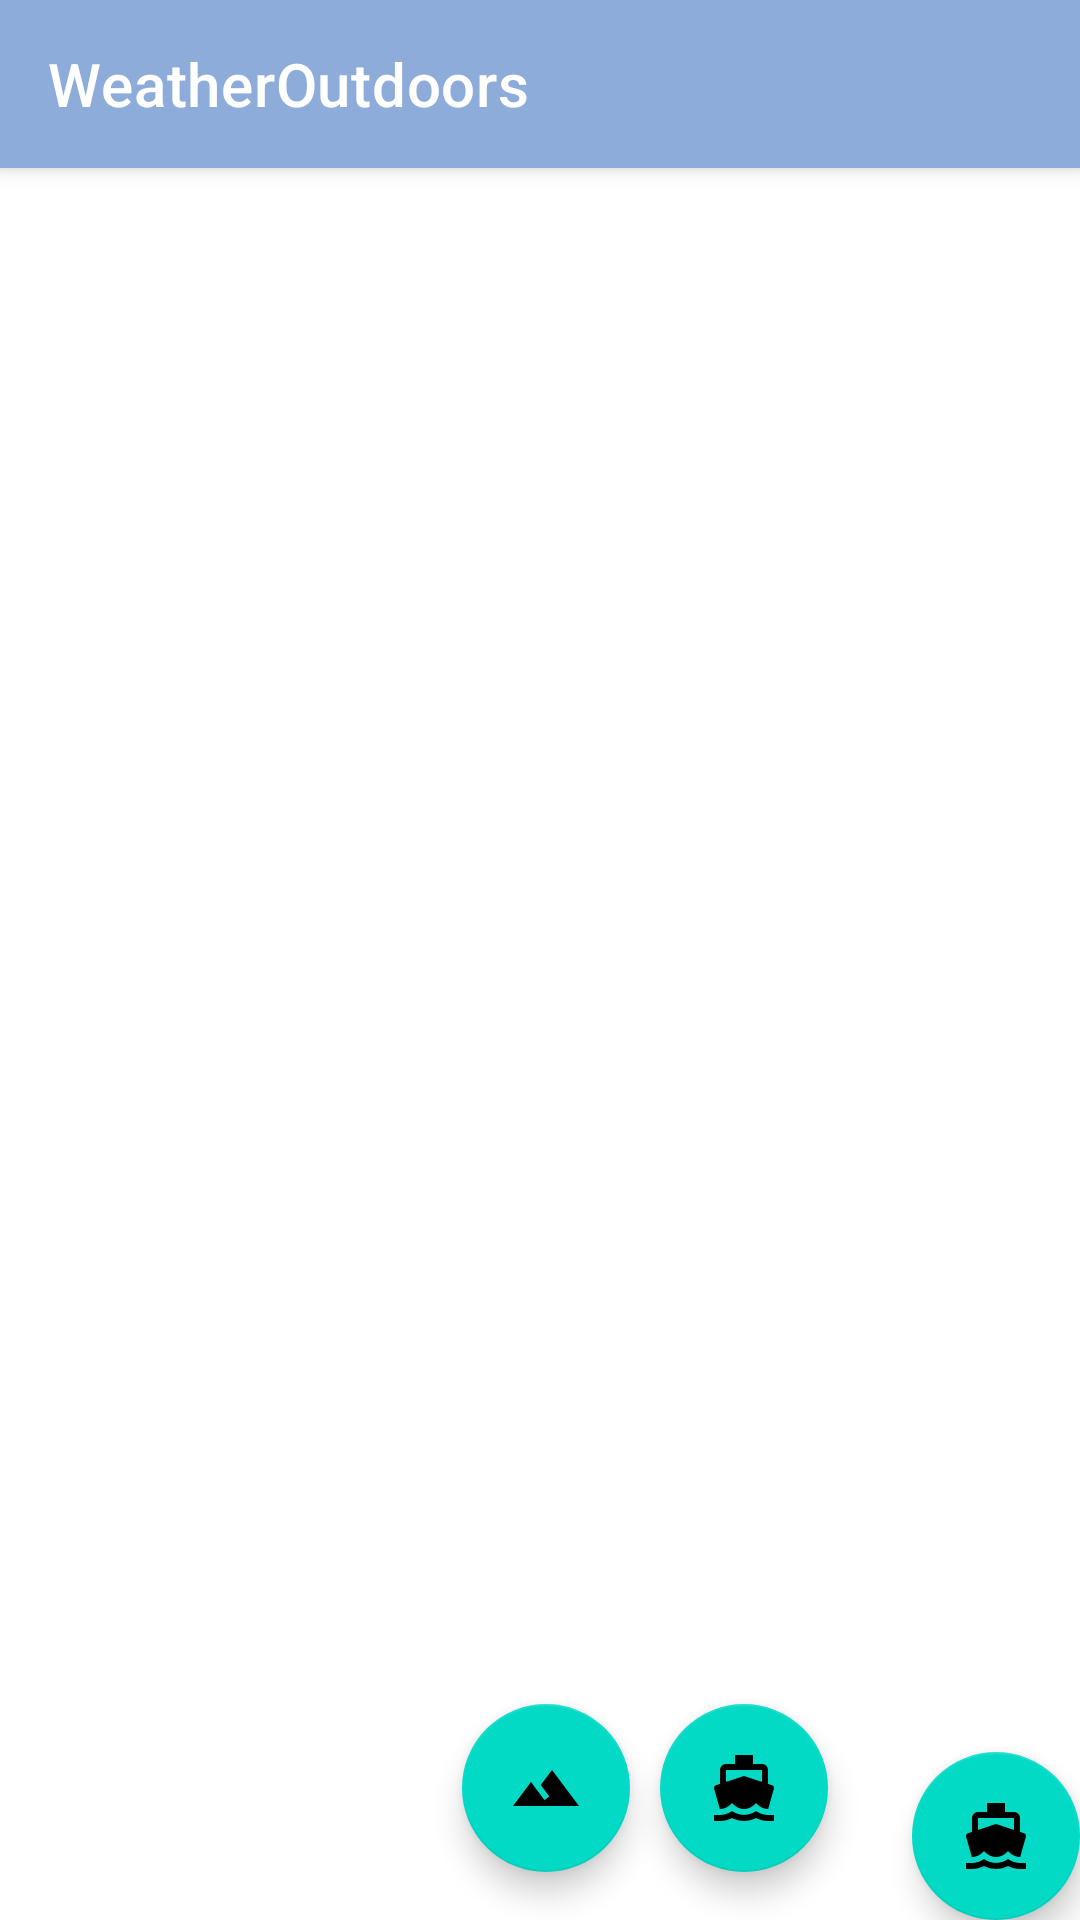

Icon click points for this 1080w x 1920h phone screenshot, format (x=x, y=y):
boat: (x=744, y=1788), (x=996, y=1836)
terrain: (x=546, y=1788)
